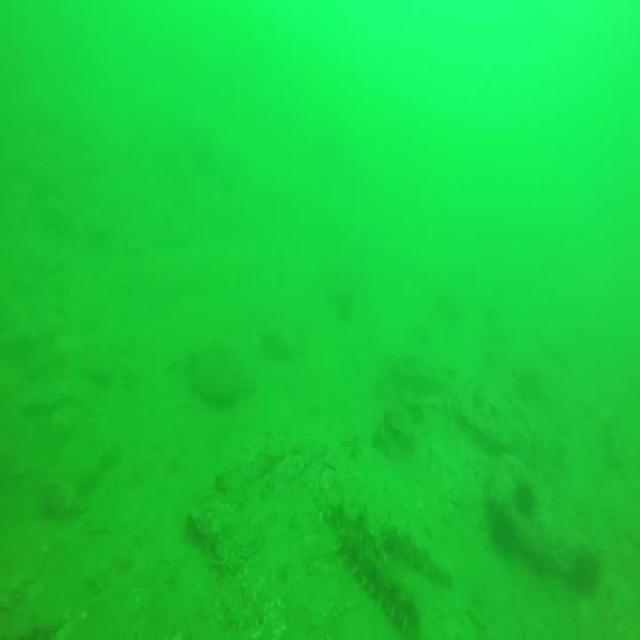echinus: (516, 484, 536, 514)
holothurian: (336, 536, 421, 629), (382, 528, 455, 584), (323, 499, 385, 558)
